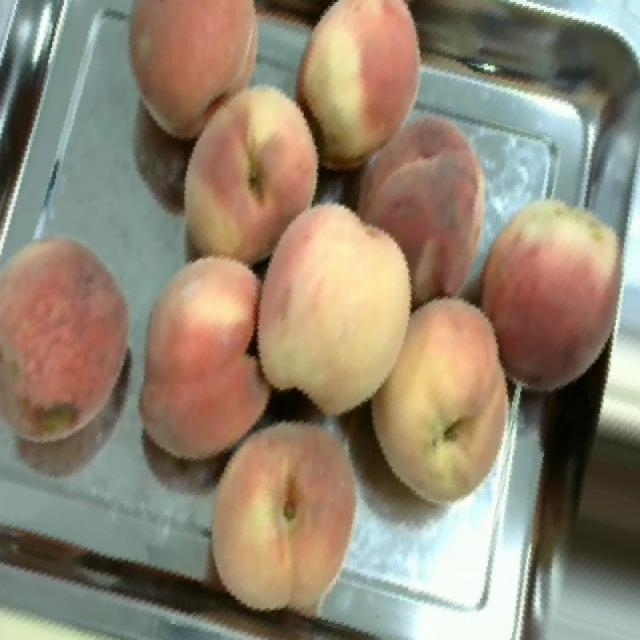Fruit: (170, 391, 388, 640), (236, 175, 440, 439), (108, 236, 297, 489), (347, 276, 533, 525), (154, 60, 346, 286), (456, 177, 640, 405), (0, 209, 152, 475), (337, 93, 511, 314), (272, 0, 449, 193), (100, 0, 285, 157)
